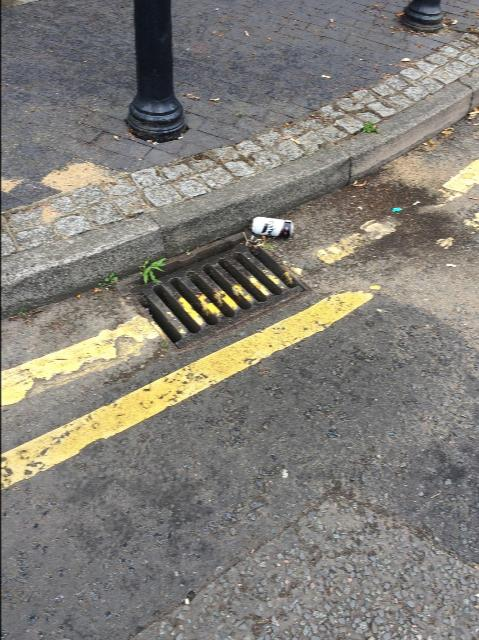metal: (250, 217, 292, 239)
